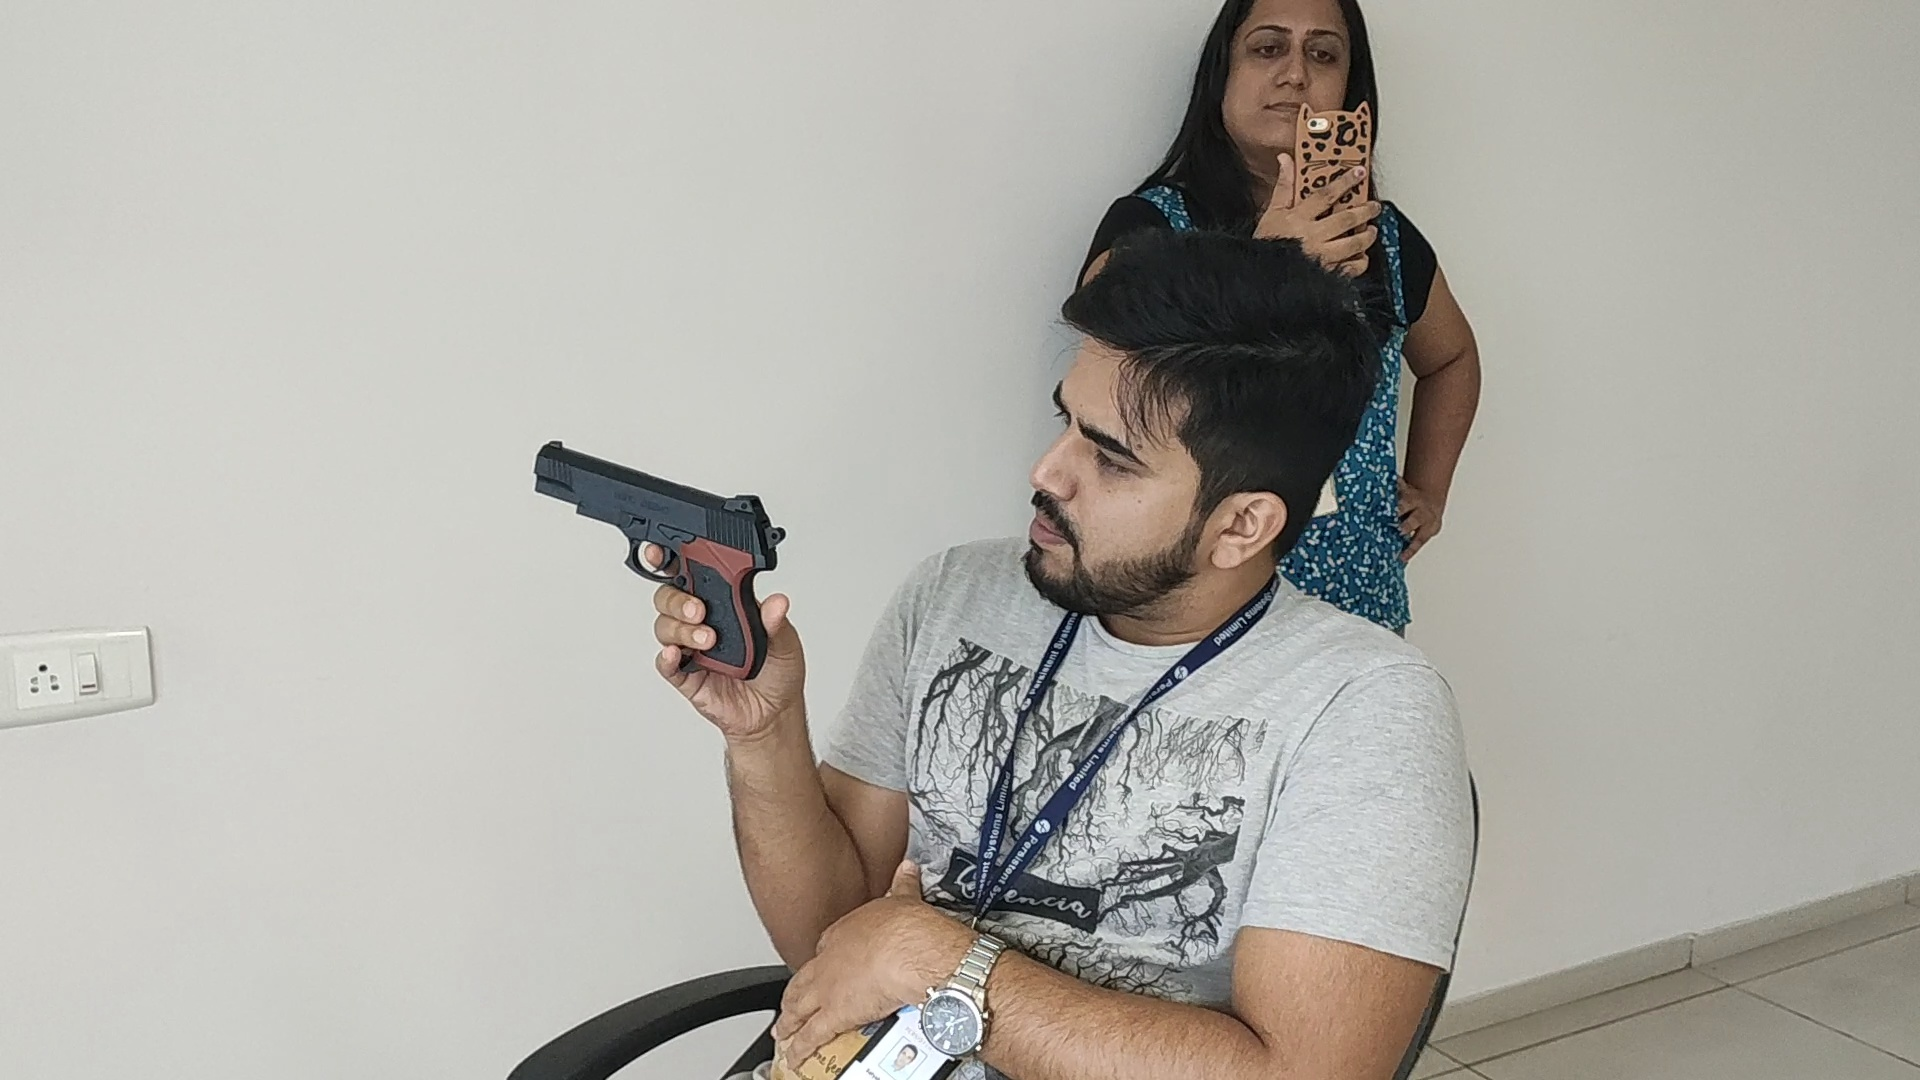gun: (533, 440, 787, 583)
